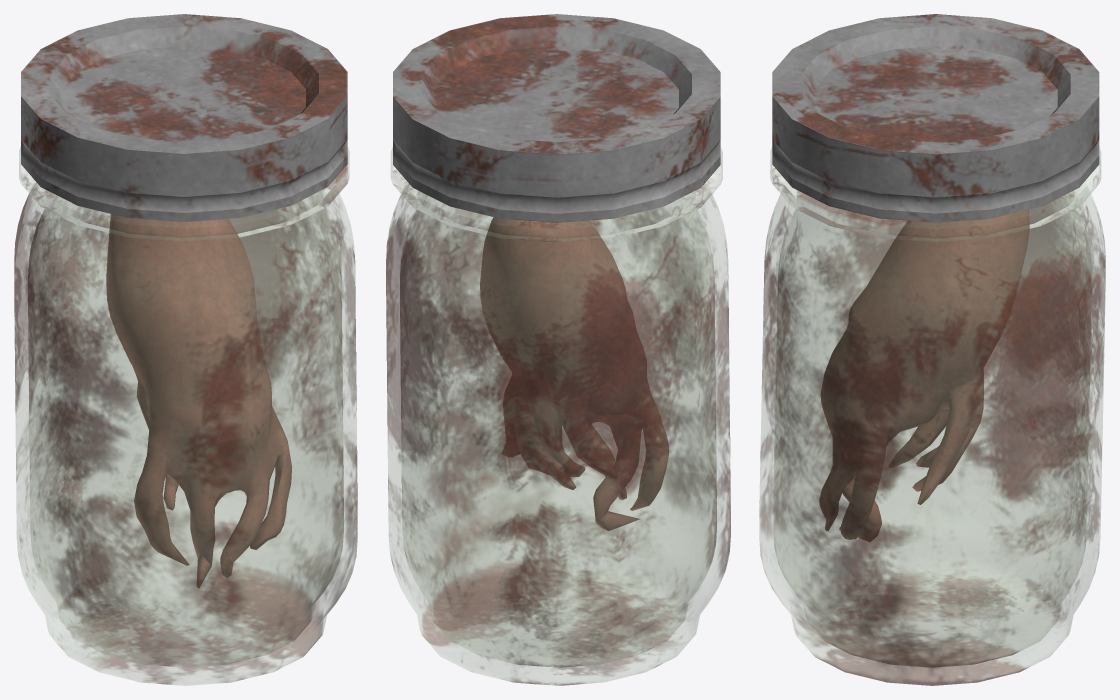
The picture shows the model from 3 angles, left to right: view 1: azimuth 30°, elevation 25°; view 2: azimuth 150°, elevation 25°; view 3: azimuth 270°, elevation 25°; orthographic projection.
Parts seen in each view (by area): view 1: Jar LP, deviant art-retopo 1; view 2: Jar LP, deviant art-retopo 1; view 3: Jar LP, deviant art-retopo 1.
Part boxes in pixels (<box>): Jar LP: <box>14,14,357,685</box>; deviant art-retopo 1: <box>106,214,291,587</box>; Jar LP: <box>386,14,730,685</box>; deviant art-retopo 1: <box>480,217,669,530</box>; Jar LP: <box>759,14,1105,685</box>; deviant art-retopo 1: <box>819,209,1029,541</box>.
Size of the model in its own units: 15.2 by 26.45 by 15.18.
2 materials, 2 textured.
